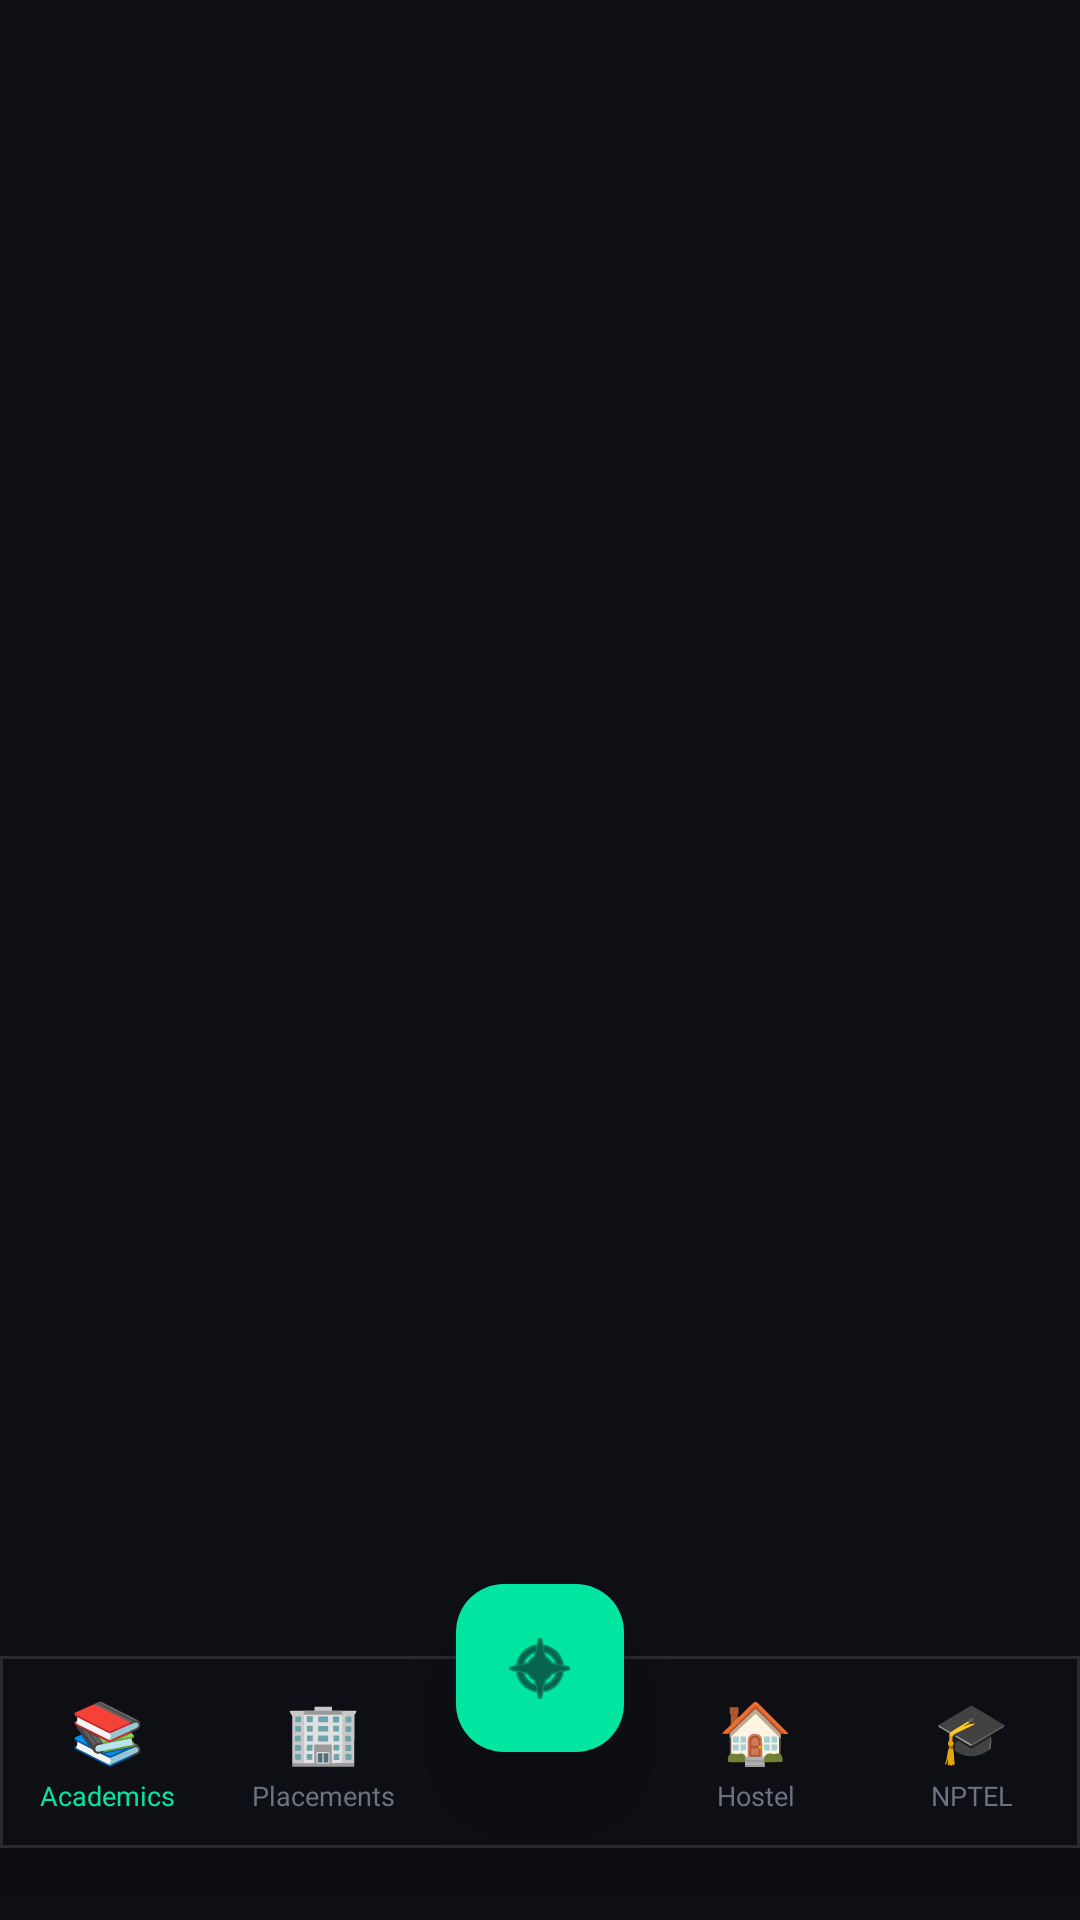

Screen size 1080px x 1920px. Icon name, then its center in pixels as point (x, y):
compass: point (540, 1668)
